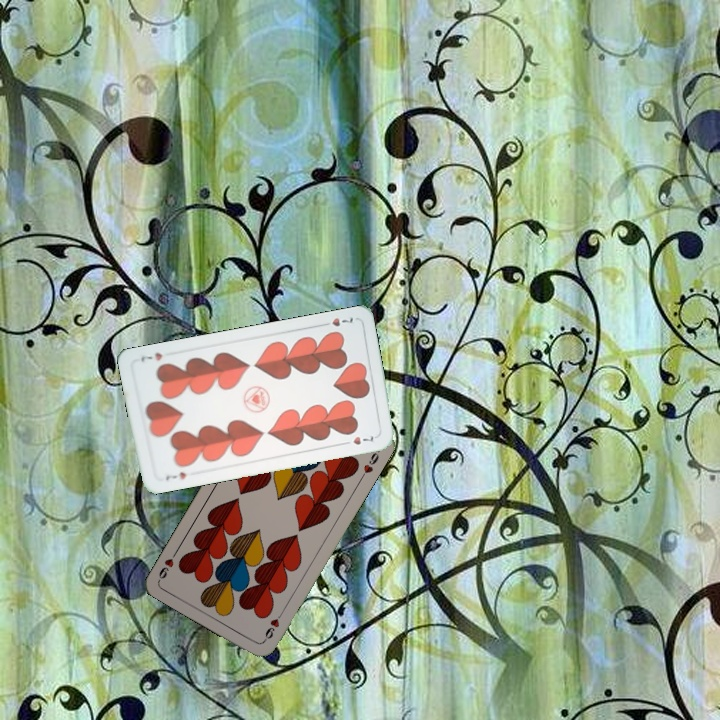H7: (317, 313, 356, 329), (161, 468, 189, 483)
H9: (259, 607, 286, 644)
